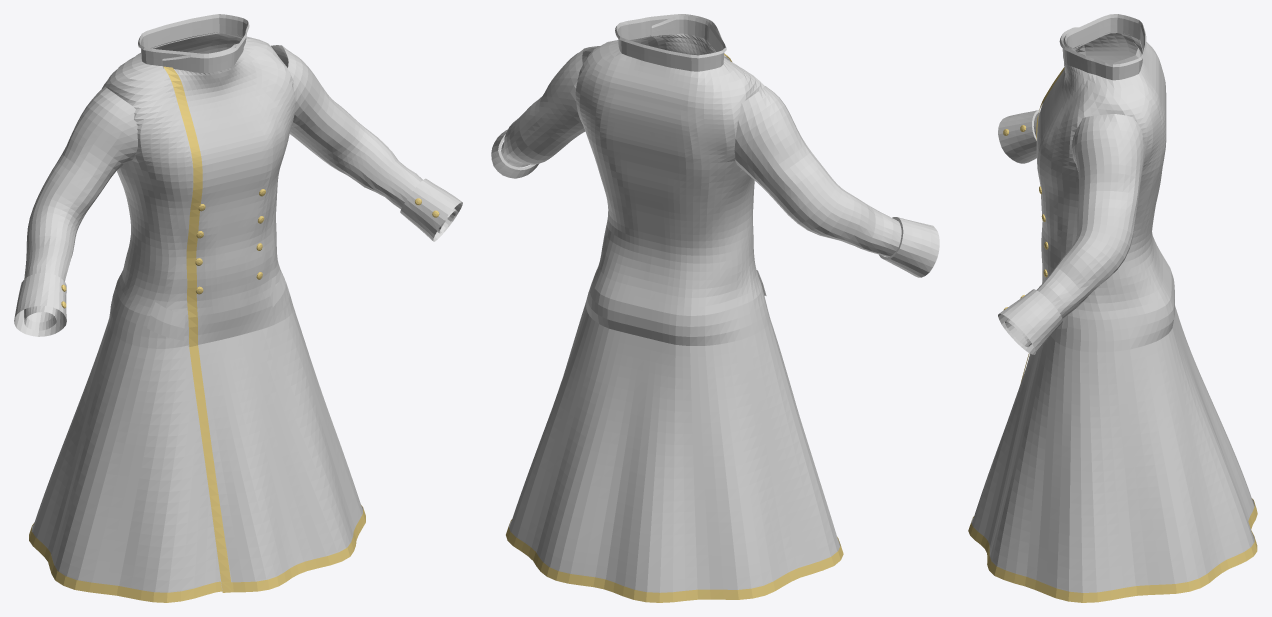
Rendered from ewb_pirate_closed.glb.
3 renders of one model, left to right at view 1: azimuth 30°, elevation 25°; view 2: azimuth 150°, elevation 25°; view 3: azimuth 270°, elevation 25°, orthographic. The views are drawn at different scales.
Visible parts, largest first — view 1: ewb_pirate_closed; view 2: ewb_pirate_closed; view 3: ewb_pirate_closed.
Boxes of the visible parts, <box> form: ewb_pirate_closed: <box>14,14,462,602</box>; ewb_pirate_closed: <box>491,14,939,602</box>; ewb_pirate_closed: <box>968,14,1257,602</box>.
Size of the model in its own units: 1.15 by 1.24 by 0.6623.
